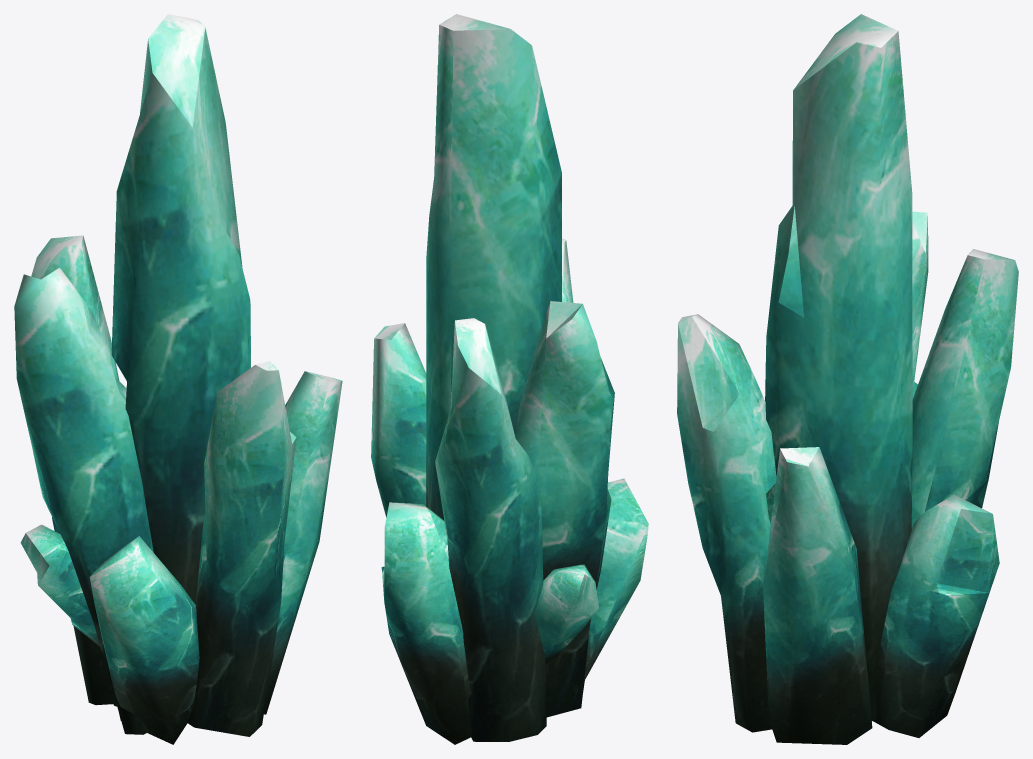
File: environment_stone_shuijing_001_i.FBX
3 views of the same model, side by side, from view 1: azimuth 30°, elevation 25°; view 2: azimuth 150°, elevation 25°; view 3: azimuth 270°, elevation 25° (orthographic). The views are drawn at different scales.
Visible parts, largest first — view 1: environment_stone_shuijing_001_i; view 2: environment_stone_shuijing_001_i; view 3: environment_stone_shuijing_001_i.
Part boxes in pixels (x1,y1,x2,y2): environment_stone_shuijing_001_i: [14, 14, 342, 744]; environment_stone_shuijing_001_i: [371, 14, 648, 744]; environment_stone_shuijing_001_i: [677, 14, 1018, 744].
Size of the model in its own units: 112 by 263 by 116.
Materials: 1 (1 with a texture image).
